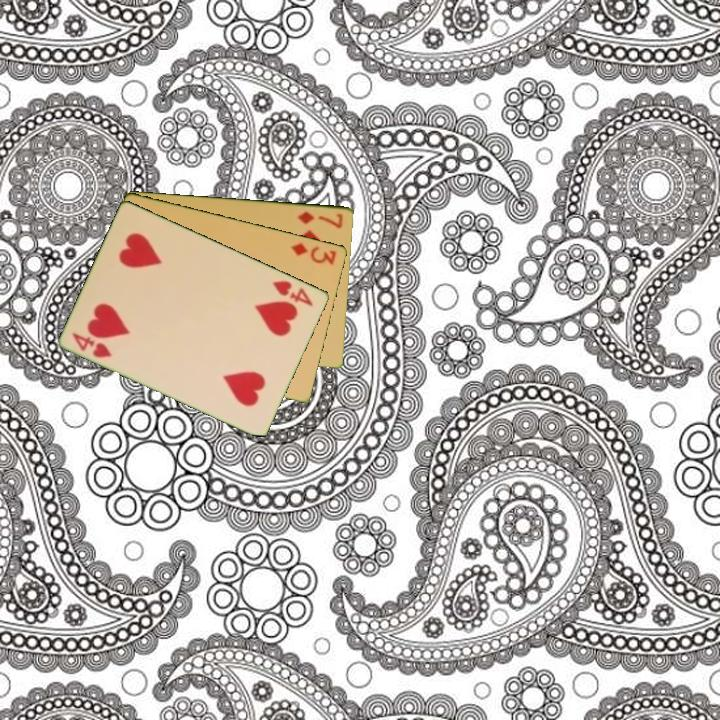3d: (287, 239, 339, 267)
4h: (269, 277, 316, 309), (68, 329, 115, 361)
7d: (294, 208, 346, 231)
